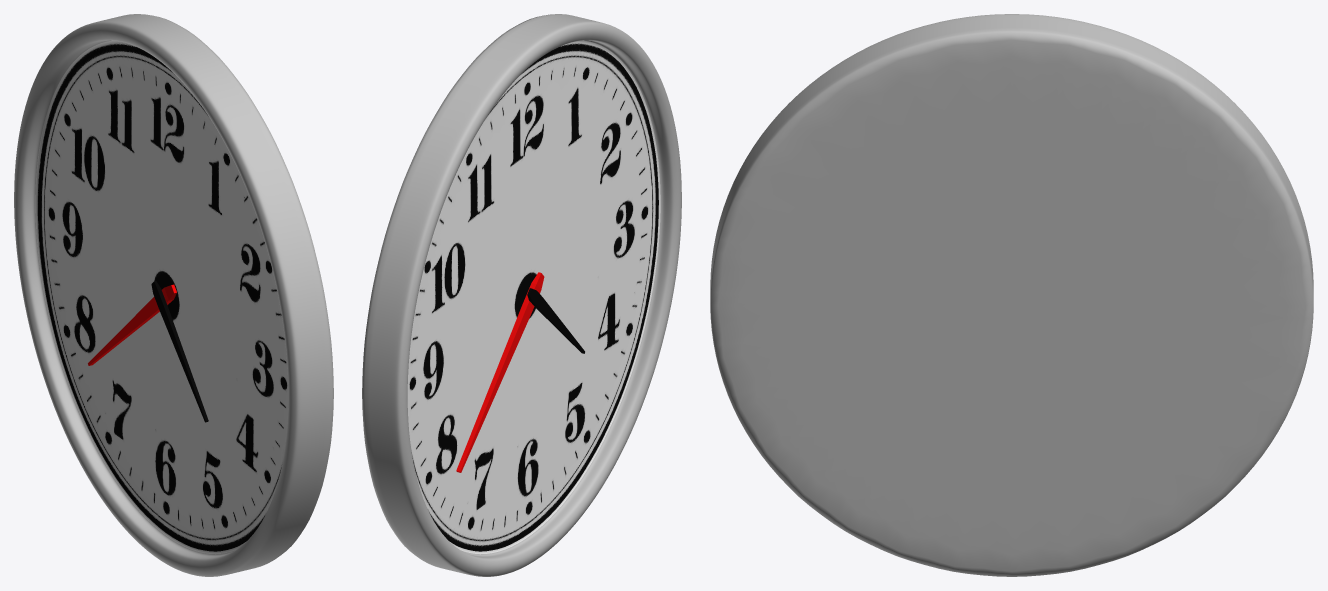
The model's file is wall_watch.glb.
The picture shows the model from 3 angles, left to right: view 1: azimuth 30°, elevation 25°; view 2: azimuth 150°, elevation 25°; view 3: azimuth 270°, elevation 25°; orthographic projection. The views are drawn at different scales.
Parts seen in each view (by area): view 1: Cube.001; view 2: Cube.001; view 3: Cube.001.
Part boxes in pixels (<box>): Cube.001: <box>14,14,333,576</box>; Cube.001: <box>362,14,681,576</box>; Cube.001: <box>710,14,1313,576</box>.
Bounding box in the file's own units: 0.1768 × 1.99 × 1.99.
Materials: 4 (1 with a texture image).
